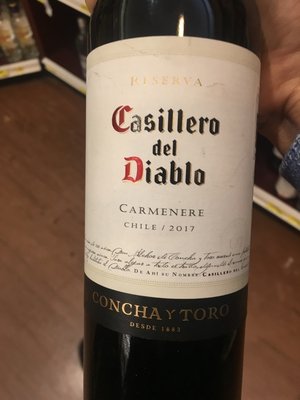casillero del diablo carmenere: (83, 12, 265, 400)
